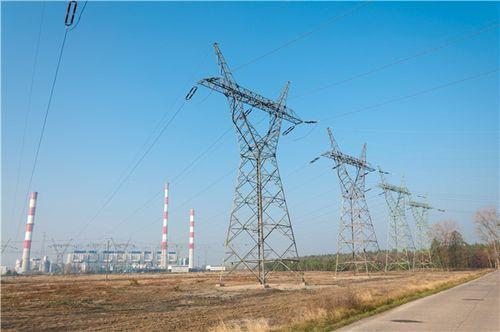power_tower: (191, 38, 310, 287), (316, 125, 383, 277), (373, 162, 412, 271), (407, 183, 443, 275)
